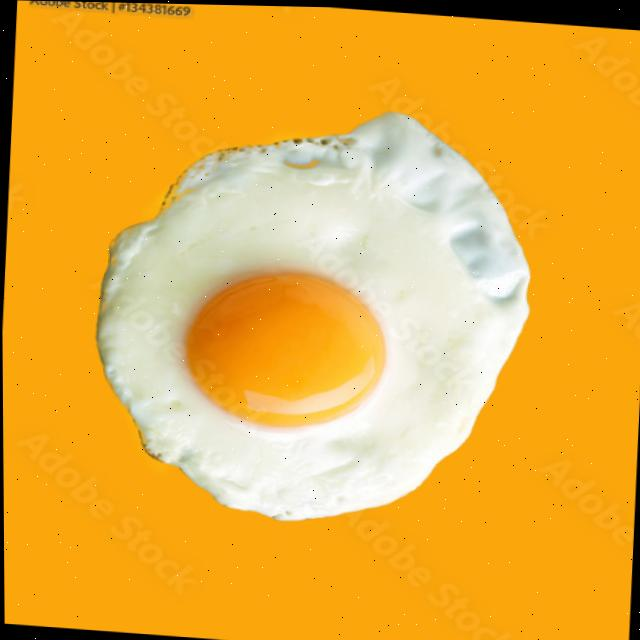Egg: (96, 111, 527, 517)
